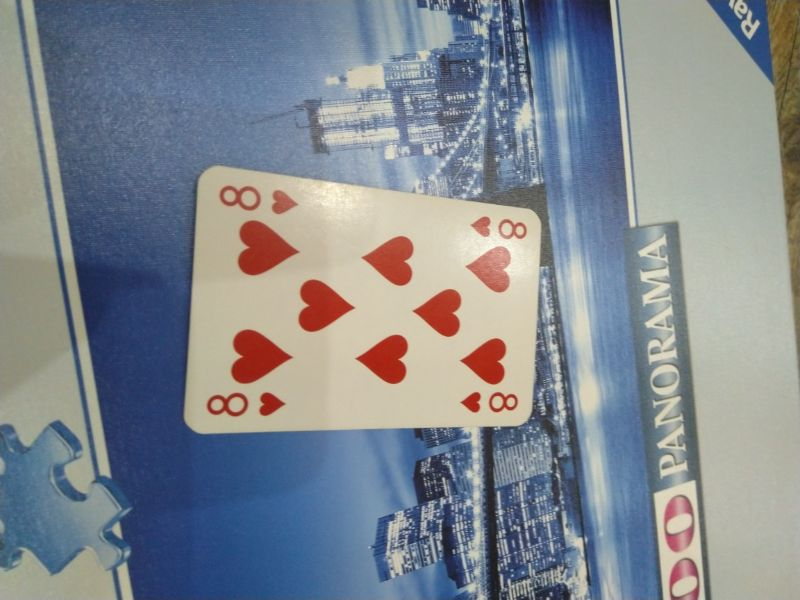8h: (216, 179, 300, 216), (203, 390, 290, 419), (468, 211, 530, 242), (458, 390, 520, 415)
